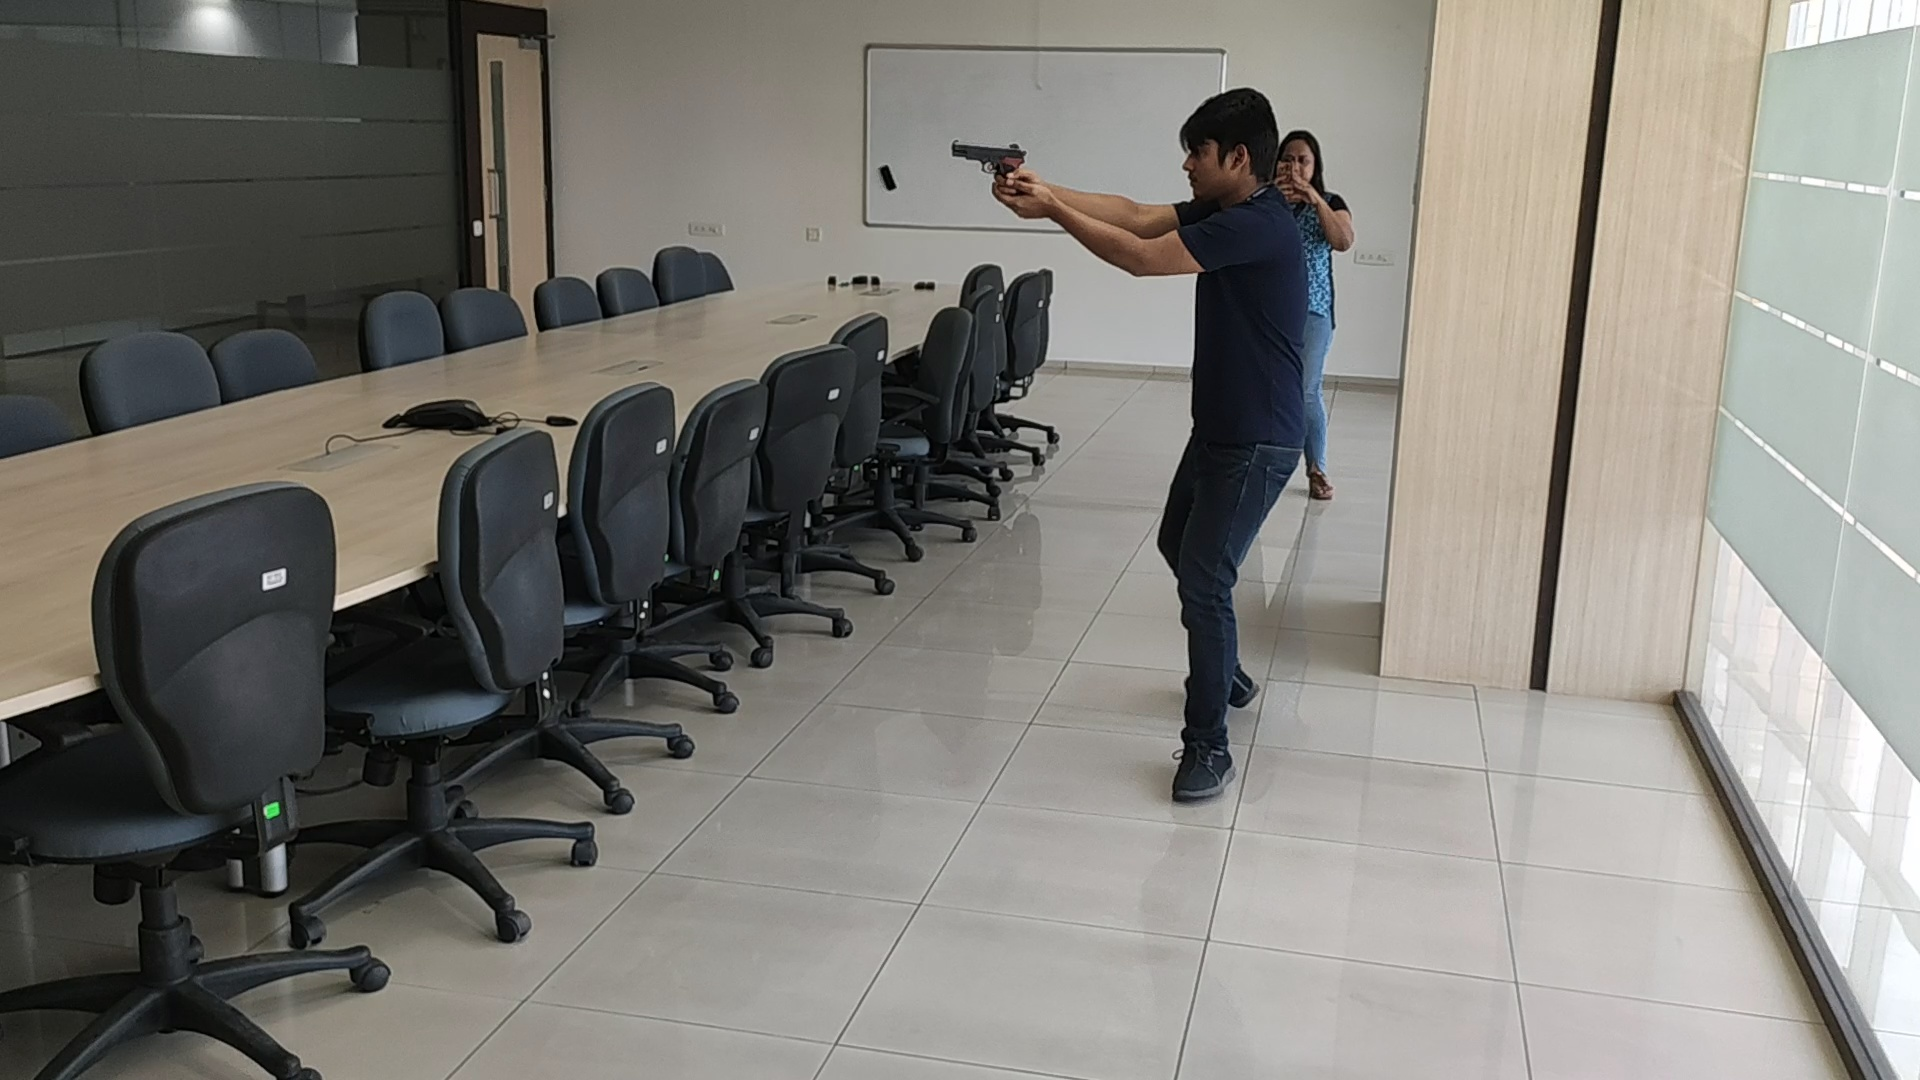gun: (949, 138, 1026, 187)
